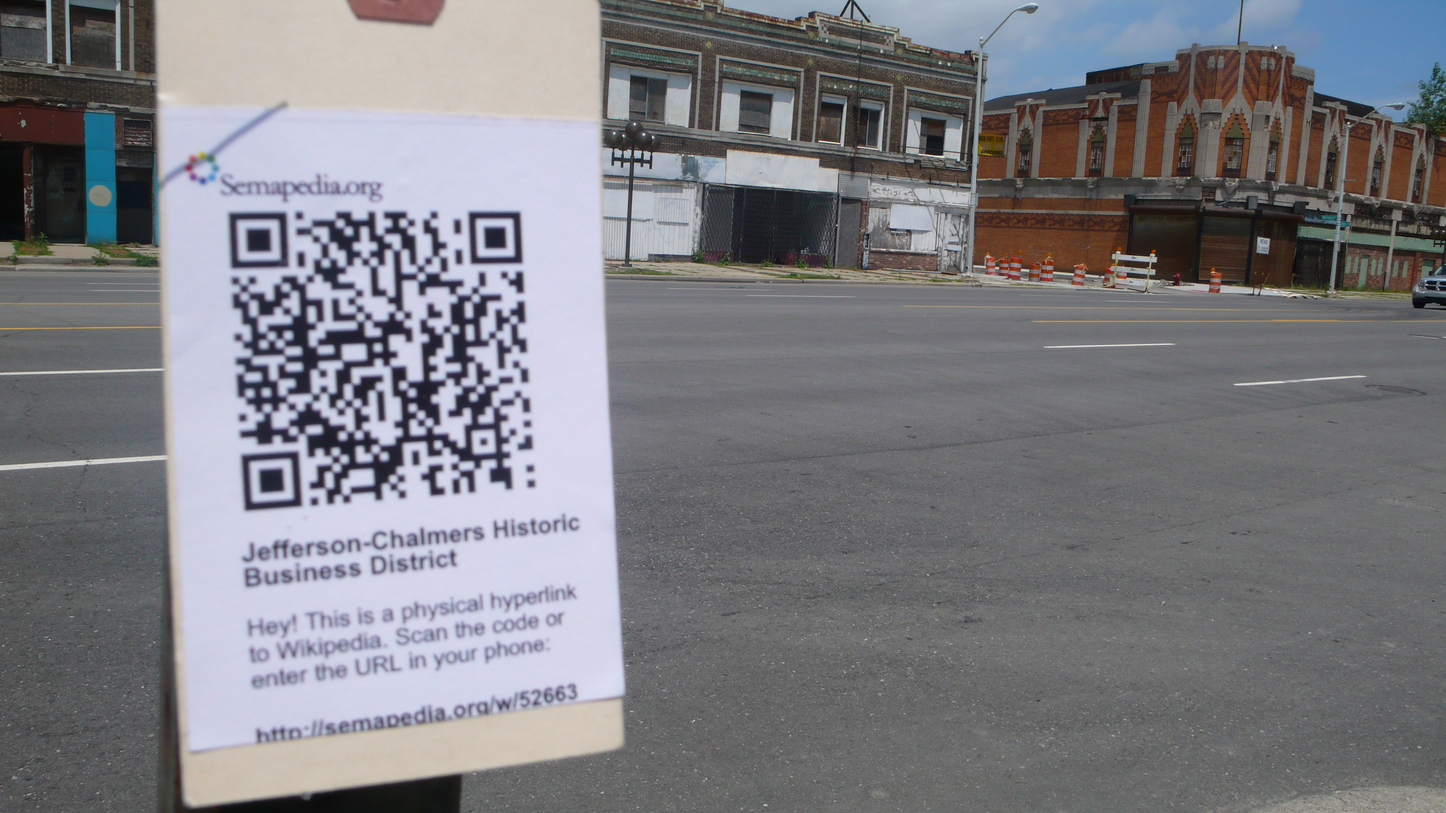QR-CODE: (230, 213, 535, 510)
